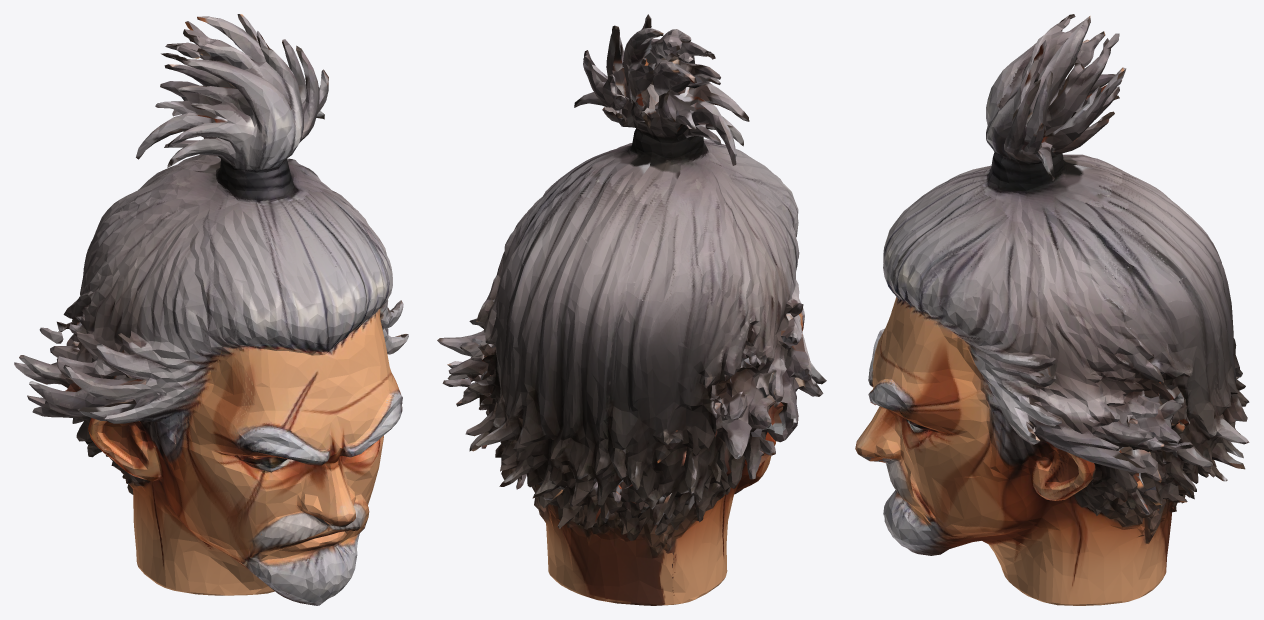
Rendered from side_takakana_repaired_atlas.glb.
3 renders of one model, left to right at view 1: azimuth 30°, elevation 25°; view 2: azimuth 150°, elevation 25°; view 3: azimuth 270°, elevation 25°, orthographic.
Parts seen in each view (by area): view 1: temp_mesh.ply; view 2: temp_mesh.ply; view 3: temp_mesh.ply.
Part boxes in pixels (left/top/right/bottom): temp_mesh.ply: left=14, top=14, right=408, bottom=605; temp_mesh.ply: left=437, top=14, right=826, bottom=605; temp_mesh.ply: left=855, top=14, right=1249, bottom=605.
Bounding box in the file's own units: 0.9347 × 1.42 × 0.9395.
1 material, 1 textured.
